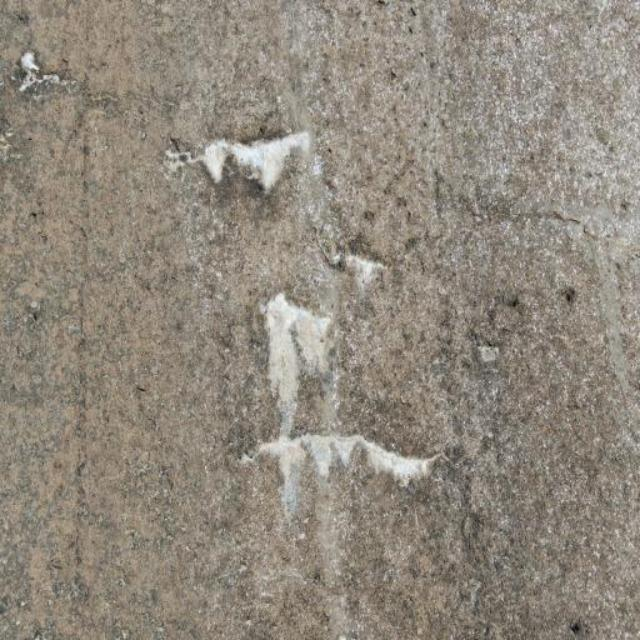D01: (266, 434, 432, 497), (266, 294, 330, 437), (198, 130, 311, 188)
